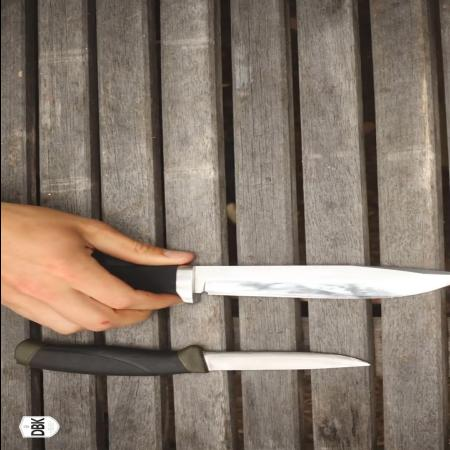long weapon: (101, 234, 450, 336), (151, 344, 378, 384)
